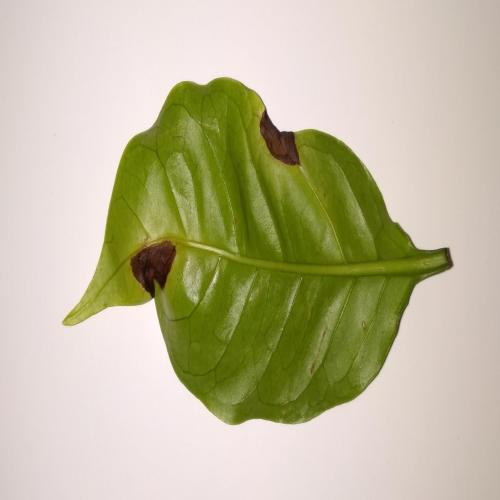miner: (260, 108, 300, 165)
